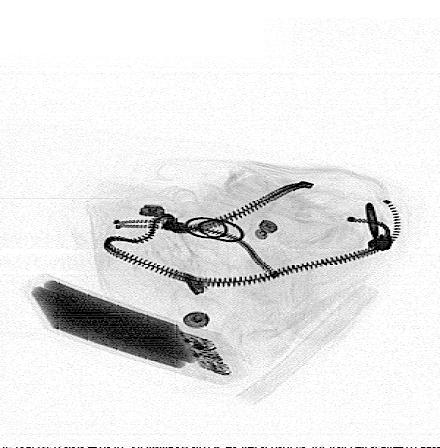Powerbank: (24, 277, 239, 385)
